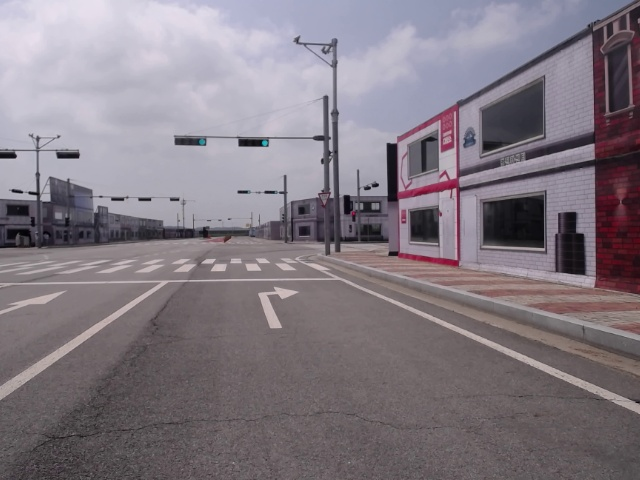straight_green_4: (237, 136, 269, 146), (176, 136, 207, 145)
